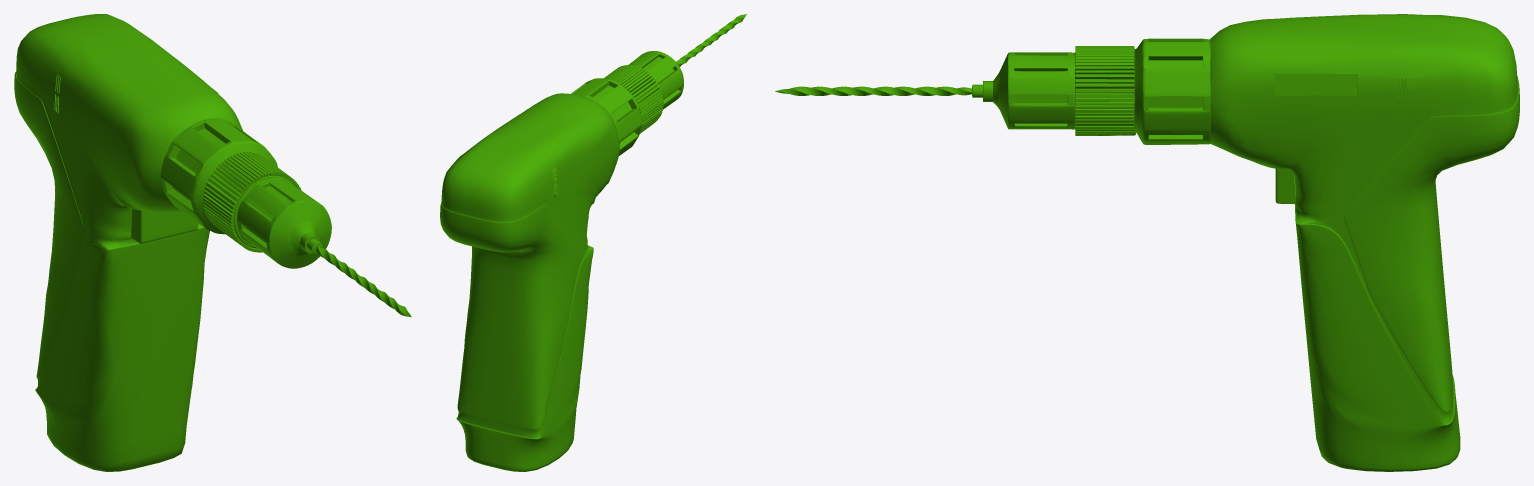
3 renders of one model, left to right at view 1: azimuth 30°, elevation 25°; view 2: azimuth 150°, elevation 25°; view 3: azimuth 270°, elevation 25°, orthographic. The views are drawn at different scales.
Visible parts, largest first — view 1: Drill3, DrillBit; view 2: Drill3, DrillBit; view 3: Drill3, DrillBit.
Part boxes in pixels (x1,y1,x2,y2): Drill3: (14, 14, 331, 471); DrillBit: (307, 238, 411, 317); Drill3: (440, 51, 683, 471); DrillBit: (676, 14, 746, 66); Drill3: (983, 14, 1519, 471); DrillBit: (775, 84, 982, 97).
Size of the model in its own units: 4.16 by 14.69 by 23.69.
